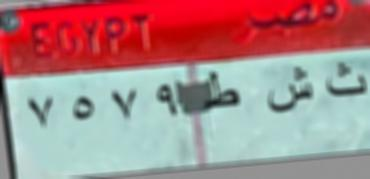5: (72, 91, 97, 126)
7: (25, 94, 58, 134), (108, 86, 141, 124)
9: (155, 82, 178, 122)
Taa: (205, 69, 240, 115)
sheen: (266, 64, 316, 114)
thaa: (322, 61, 370, 102)
